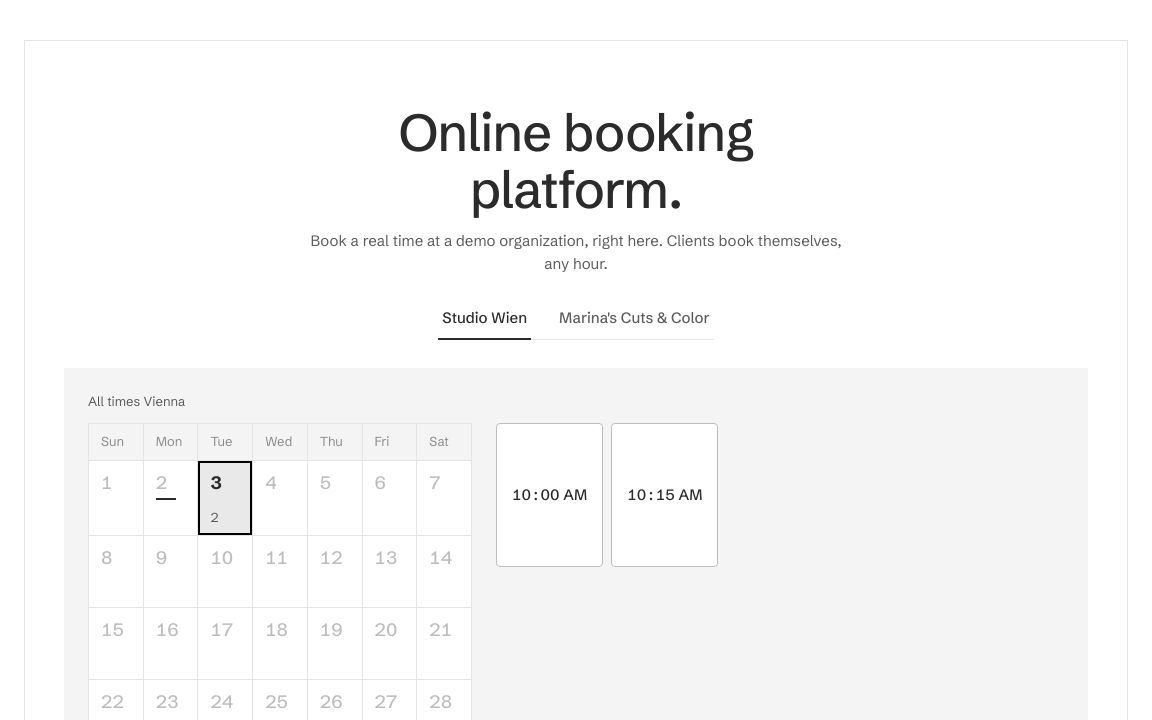
Test case: Landing live booking › books the chosen time right here and shows the confirmation, without leaving the page
The image size is (1152, 720).
Click the button "10:00 AM": (550, 495) [496,423,603,567]
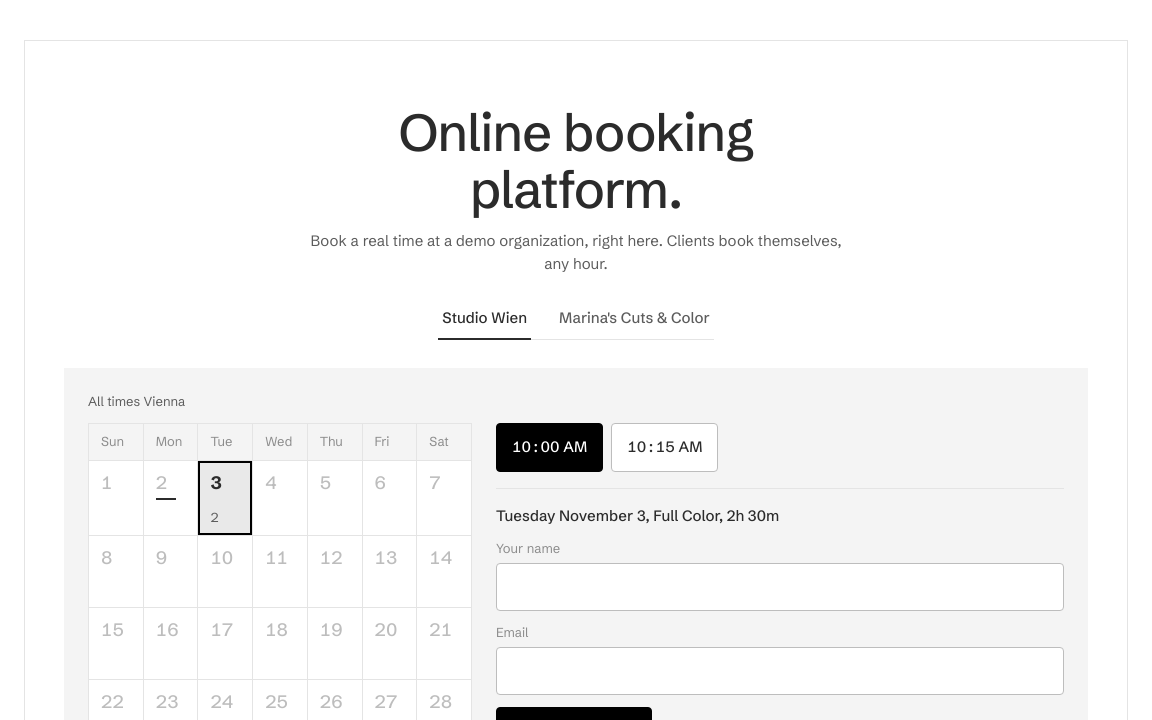
In the field labelled "Your name": (780, 587) [496,563,1064,611], type "Ada Lovelace"
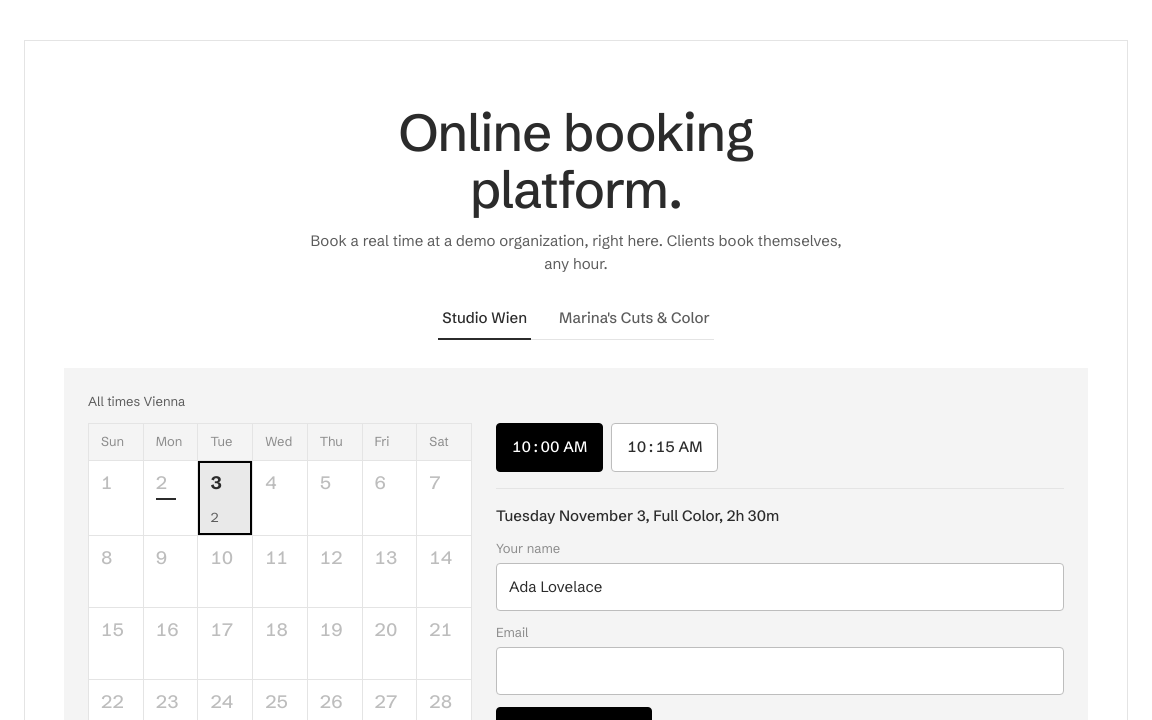
In the field labelled "Email": (780, 671) [496,647,1064,695], type "ada@example.com"
(page scrolled)
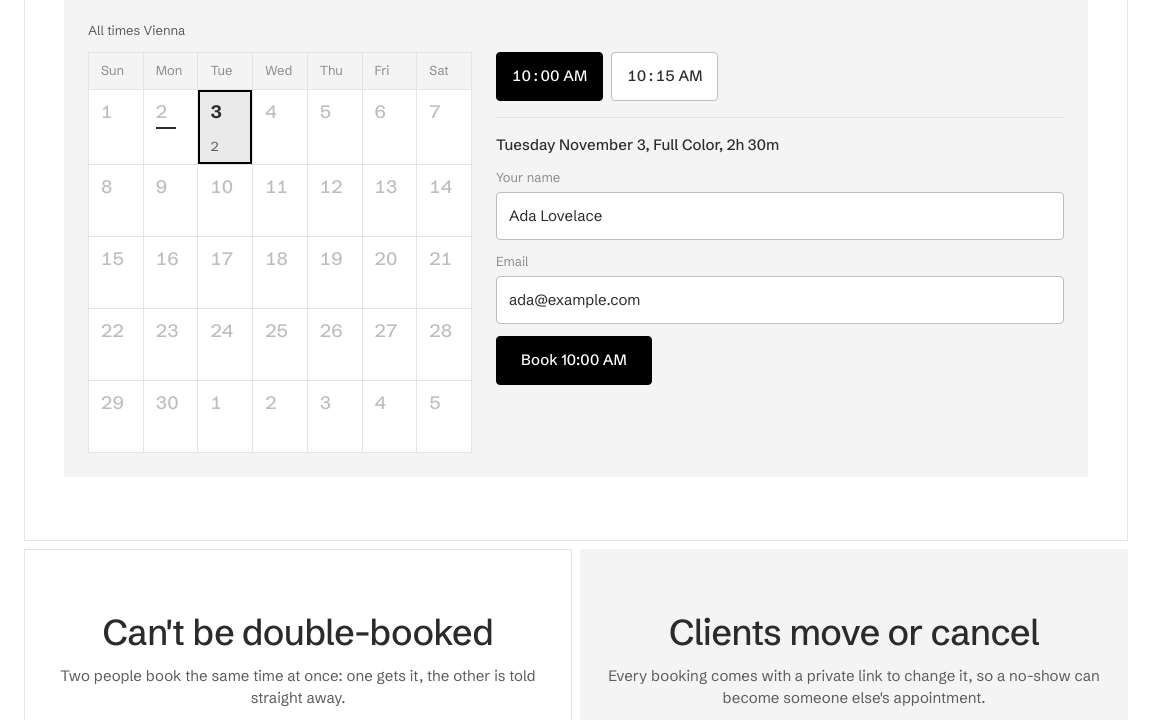
Submit the form from the button "Book 10:00 AM", box [496,336,652,385]
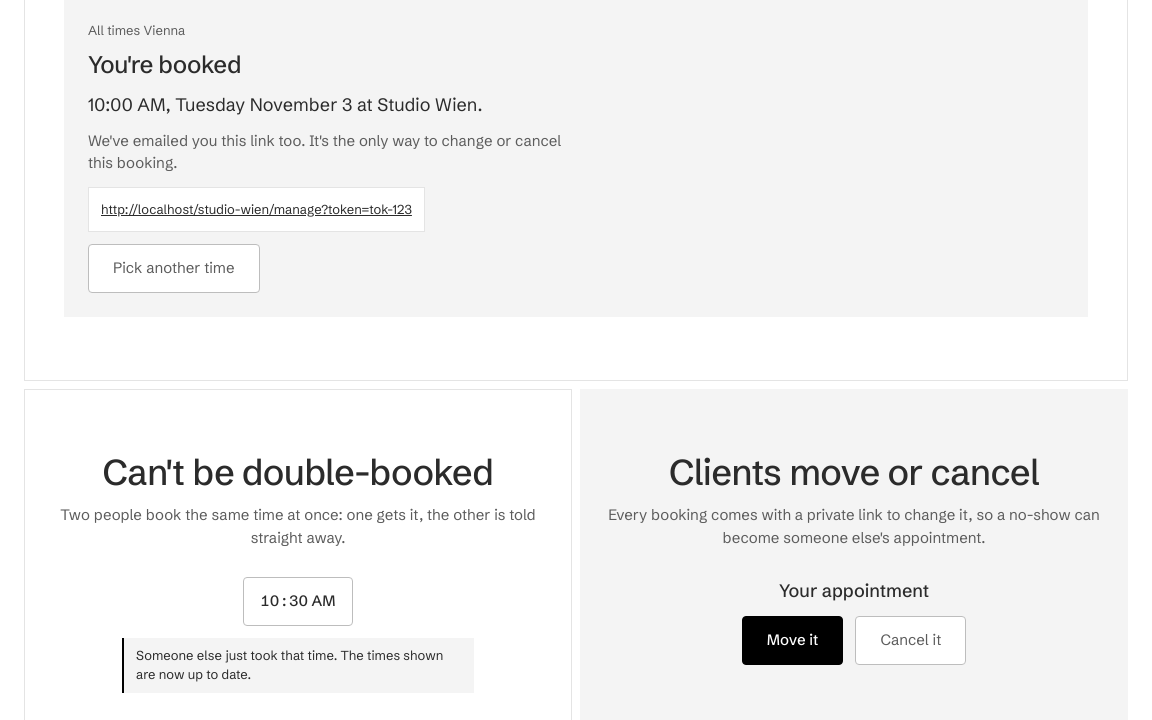
Check: the heading "You're booked" is shown, box [88,52,241,79]
Check: the link "http://localhost/studio-wien/manage?token=tok-123" is shown, box [88,187,425,232]
Check: the text "We've emailed you this link too" is shown, box [88,131,309,150]
